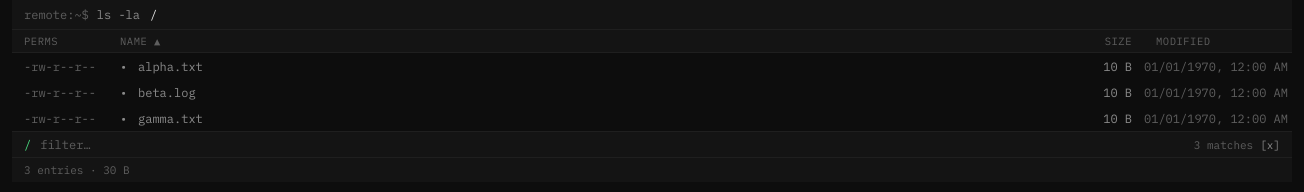
Test case: FilePane filter bar › shows a live match count
Expected: the text "3 matches" is shown, [1194, 138, 1253, 152]
Type "beta" into the field named "Filter remote rows" at {"x": 612, "y": 144}, box [38, 136, 1187, 153]
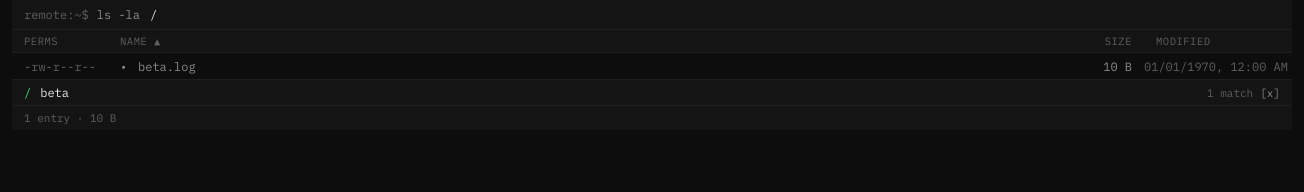
Result: the text "1 match" is shown at [1207, 86, 1253, 100]
